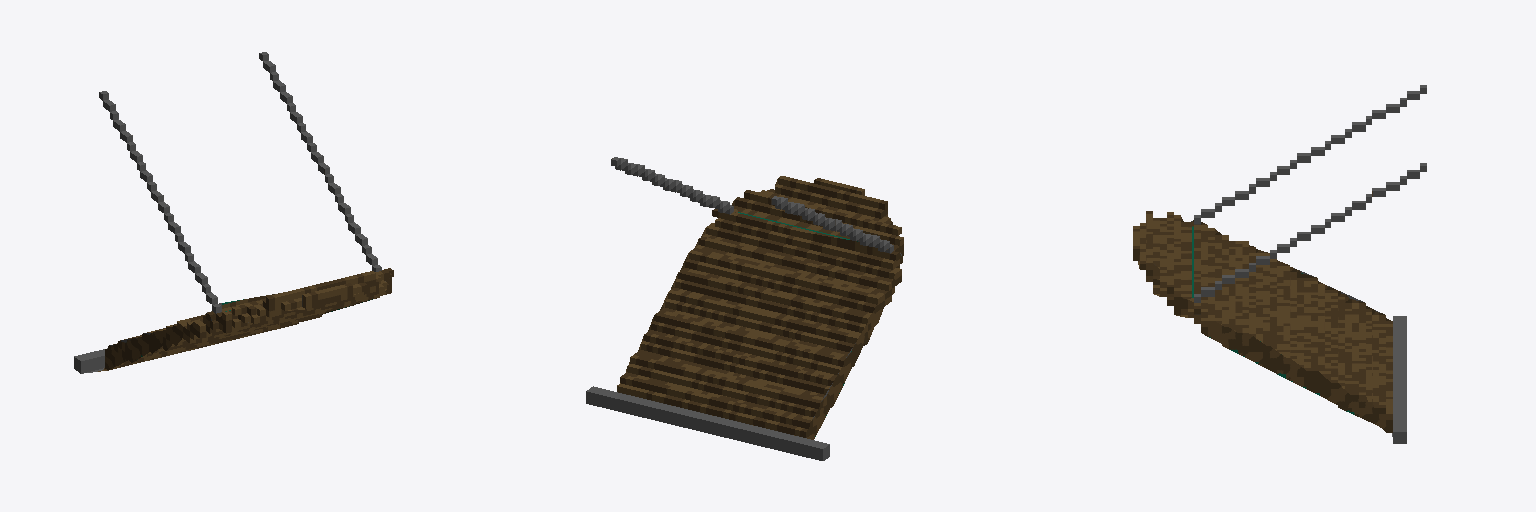
The picture shows the model from 3 angles: view 1: azimuth 30°, elevation 25°; view 2: azimuth 150°, elevation 25°; view 3: azimuth 270°, elevation 25°; orthographic projection.
Parts seen in each view (by area): view 1: Entrance_Bridge_MidOpen_Medieval_Assets-36.001; view 2: Entrance_Bridge_MidOpen_Medieval_Assets-36.001; view 3: Entrance_Bridge_MidOpen_Medieval_Assets-36.001.
Part boxes in pixels (x1,y1,x2,y2): Entrance_Bridge_MidOpen_Medieval_Assets-36.001: (74, 52, 393, 373); Entrance_Bridge_MidOpen_Medieval_Assets-36.001: (586, 157, 903, 460); Entrance_Bridge_MidOpen_Medieval_Assets-36.001: (1133, 85, 1426, 443).
Size of the model in its own units: 4 by 4.2 by 4.3.
Materials: 1 (1 with a texture image).